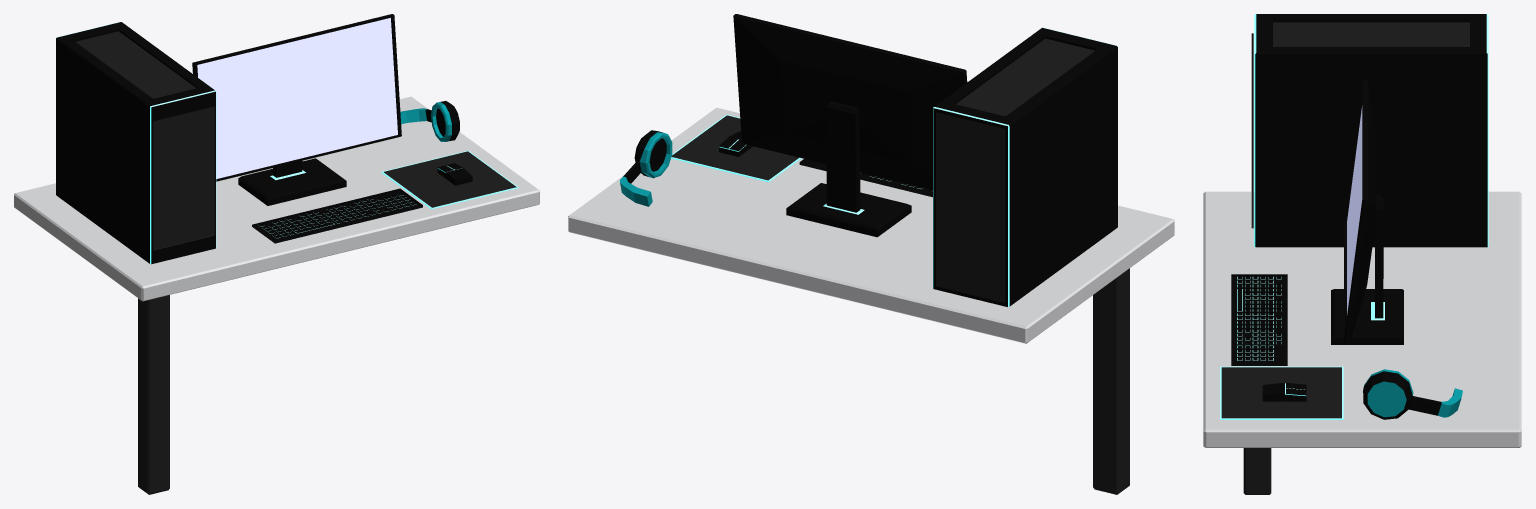
The model's file is pcDesk.glb.
3 renders of one model, left to right at view 1: azimuth 30°, elevation 25°; view 2: azimuth 150°, elevation 25°; view 3: azimuth 270°, elevation 25°, orthographic. The views are drawn at different scales.
Visible parts, largest first — view 1: table, cpu, monitor, Plane, keyboard, headset; view 2: table, cpu, monitor, Plane, headset, keyboard; view 3: cpu, table, monitor, Plane, keyboard, headset, mouse.
Part boxes in pixels (bbox=[...]): table: bbox=[14, 96, 539, 494]; cpu: bbox=[56, 22, 216, 264]; monitor: bbox=[192, 14, 401, 205]; Plane: bbox=[381, 150, 518, 209]; keyboard: bbox=[252, 188, 422, 243]; headset: bbox=[400, 101, 459, 141]; table: bbox=[568, 107, 1174, 494]; cpu: bbox=[933, 27, 1117, 306]; monitor: bbox=[733, 14, 967, 237]; Plane: bbox=[671, 114, 801, 182]; headset: bbox=[620, 130, 672, 206]; keyboard: bbox=[799, 159, 932, 197]; cpu: bbox=[1251, 14, 1488, 247]; table: bbox=[1203, 191, 1521, 494]; monitor: bbox=[1331, 79, 1403, 344]; Plane: bbox=[1220, 366, 1343, 419]; keyboard: bbox=[1231, 274, 1287, 365]; headset: bbox=[1363, 369, 1462, 419]; mouse: bbox=[1262, 382, 1306, 401].
Size of the model in its own units: 5.28 by 4.86 by 2.97.
